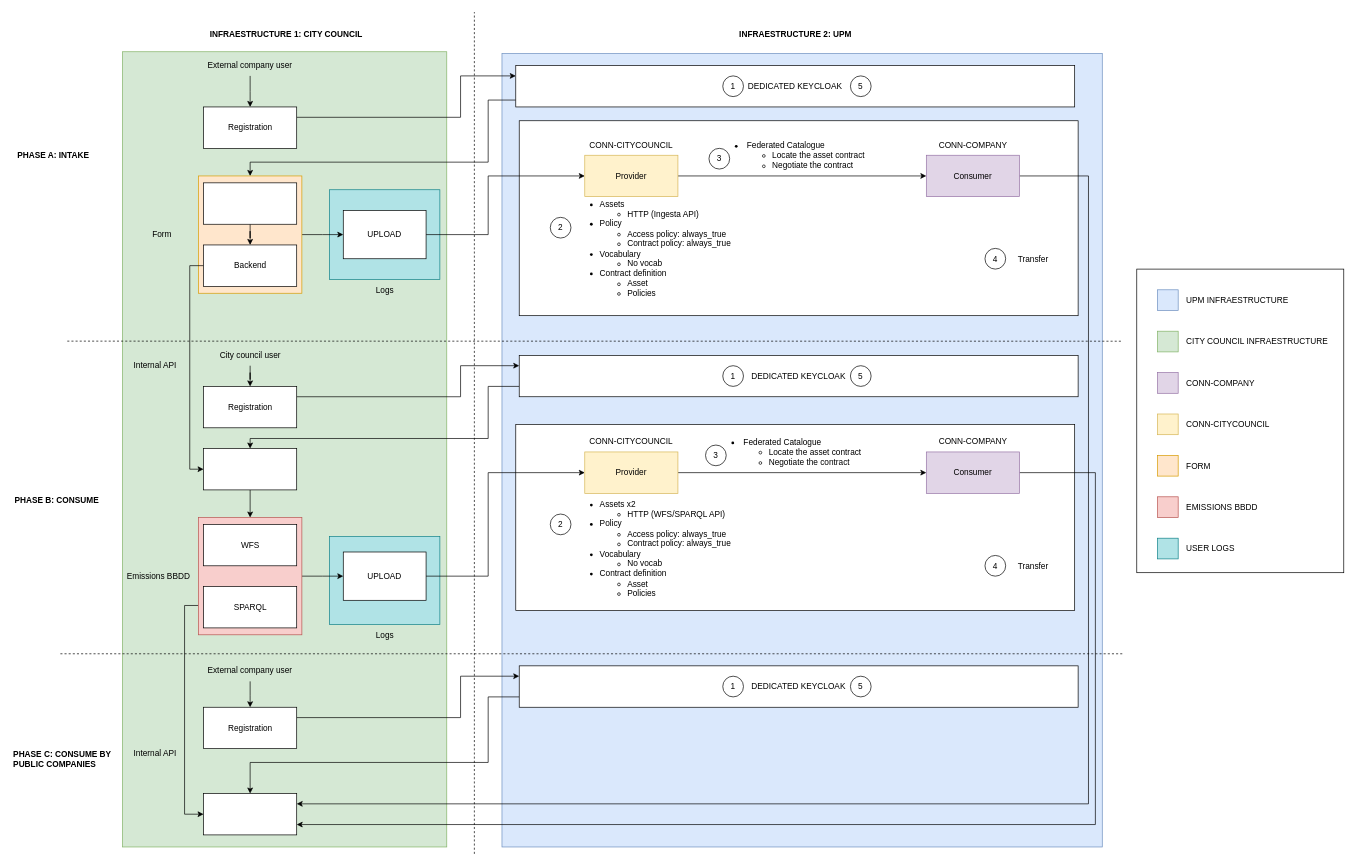
Some shapes in this 1356 by 867 pixel diagram are drawn without their labels. Here are the shapes that lost their labels. From the top down, the centre of each, then its label:
the point at 250,203: Frontend
the point at 250,469: Processing backend
the point at 250,814: Other backend
